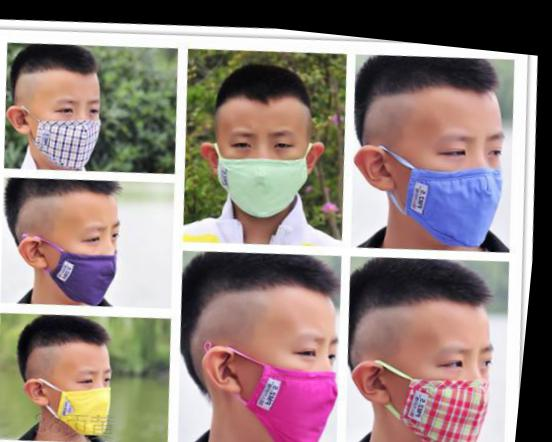OK: (375, 102, 517, 241), (215, 307, 360, 442), (380, 315, 514, 442), (217, 113, 317, 214), (18, 79, 108, 170), (46, 355, 127, 436)
WRONG: (25, 204, 132, 310)
